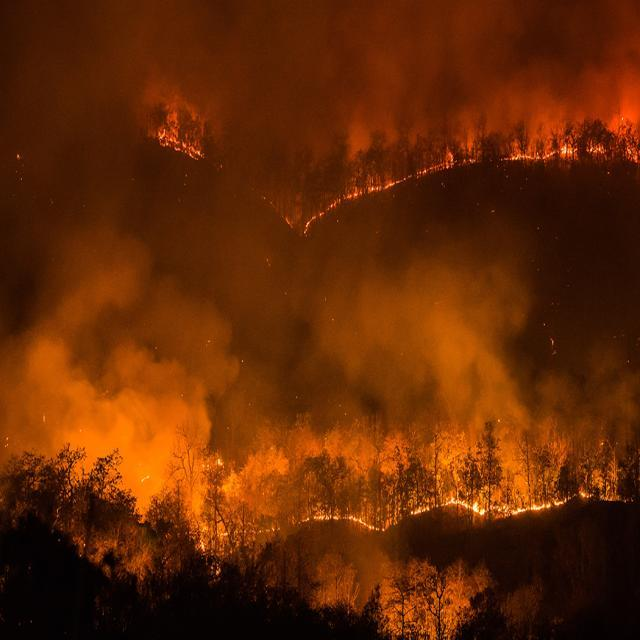Fire: (312, 492, 604, 530), (306, 156, 474, 222), (482, 147, 640, 164), (150, 106, 200, 156)
Smoke: (297, 228, 547, 446), (14, 257, 204, 513), (401, 19, 634, 134)
